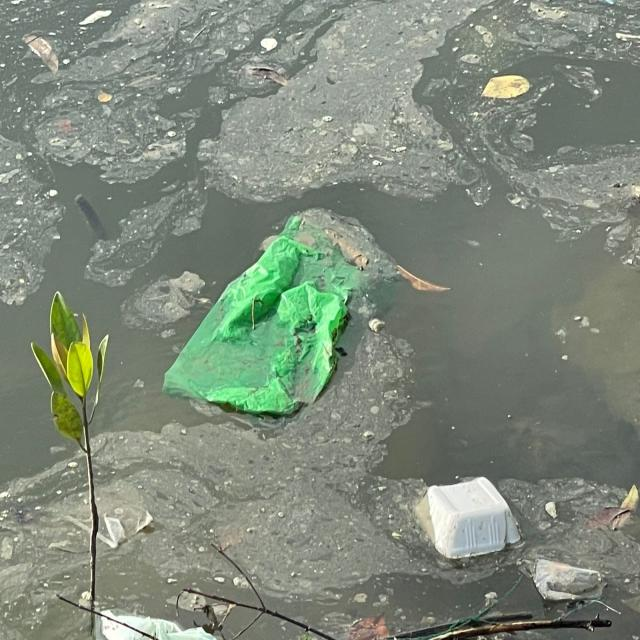Bungkus Makanan: (414, 476, 524, 563)
Kantong Plastik: (162, 210, 391, 421)
